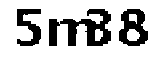3: (96, 6, 115, 50)
5: (12, 5, 43, 52)
8: (119, 5, 150, 51)
m: (47, 17, 96, 51)
